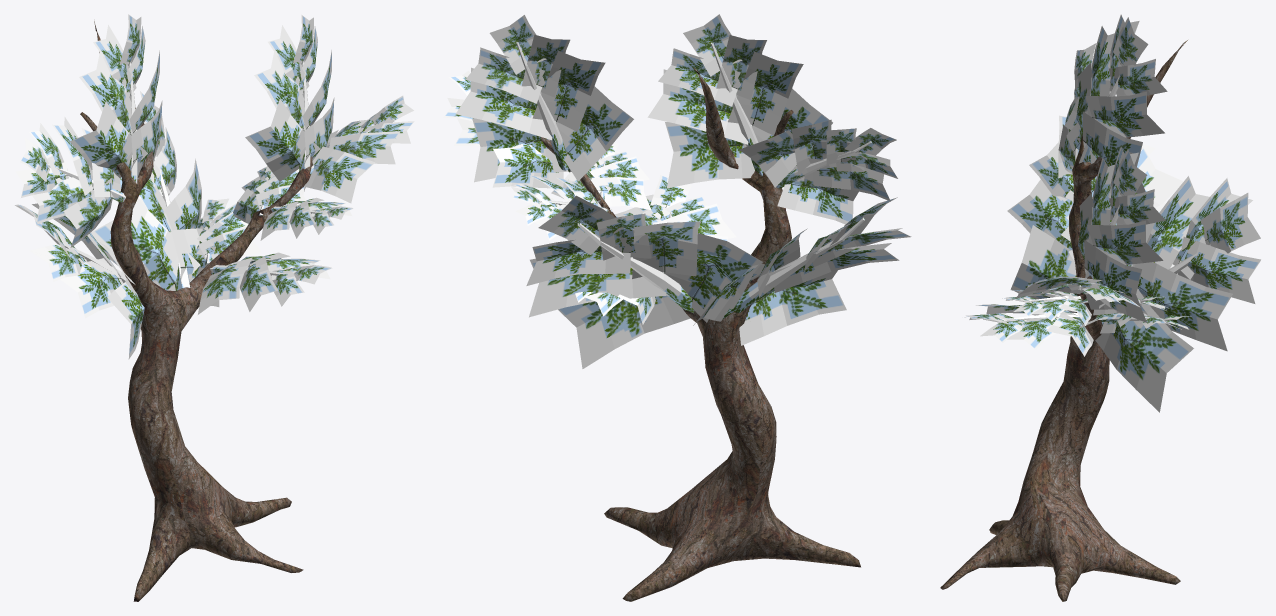
Rendered from Arbol 1.fbx.
3 renders of one model, left to right at view 1: azimuth 30°, elevation 25°; view 2: azimuth 150°, elevation 25°; view 3: azimuth 270°, elevation 25°, orthographic. The views are drawn at different scales.
Visible parts, largest first — view 1: Arbol_1; view 2: Arbol_1; view 3: Arbol_1.
Boxes of the visible parts, x1,y1,x2,y2 form: Arbol_1: (15,14,414,601); Arbol_1: (443,14,911,601); Arbol_1: (940,14,1260,601).
Size of the model in its own units: 1343 by 1726 by 922.
2 materials, 2 textured.
